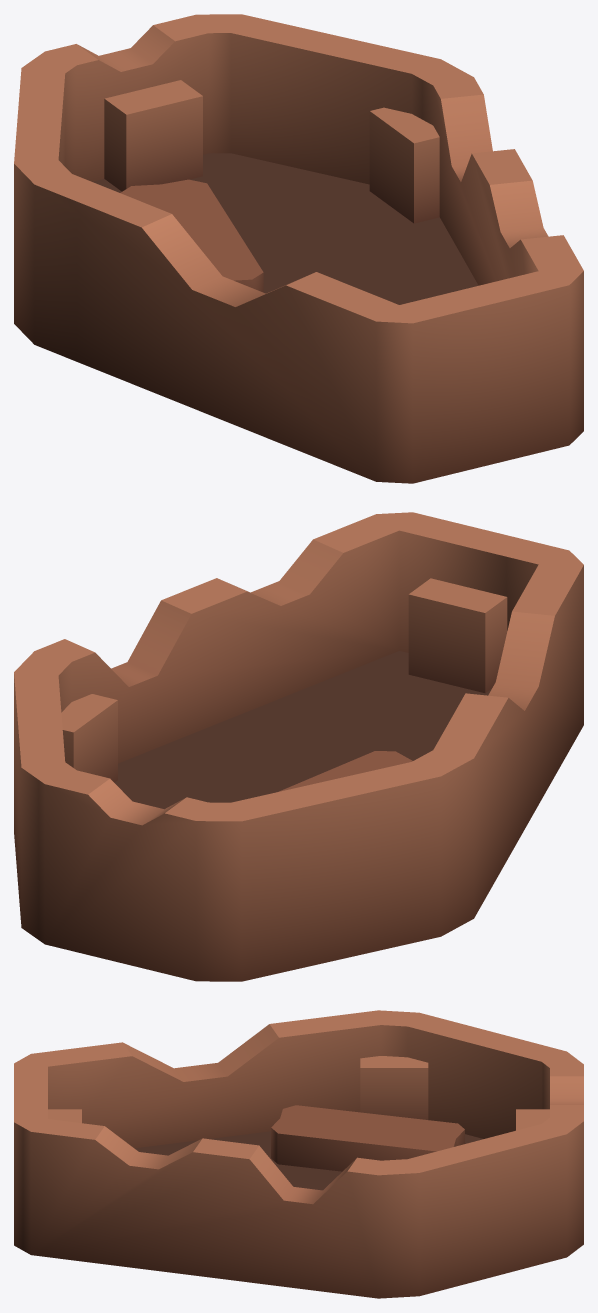
File: coffin-old.glb
The picture shows the model from 3 angles, top to bottom: view 1: azimuth 30°, elevation 25°; view 2: azimuth 150°, elevation 25°; view 3: azimuth 270°, elevation 25°; orthographic projection. The views are drawn at different scales.
Parts seen in each view (by area): view 1: coffin-old; view 2: coffin-old; view 3: coffin-old.
Boxes of the visible parts, left/top/right/bottom form: coffin-old: left=14, top=14, right=583, bottom=483; coffin-old: left=14, top=512, right=583, bottom=981; coffin-old: left=14, top=1010, right=583, bottom=1298.
Size of the model in its own units: 1.15 by 0.3999 by 1.68.
